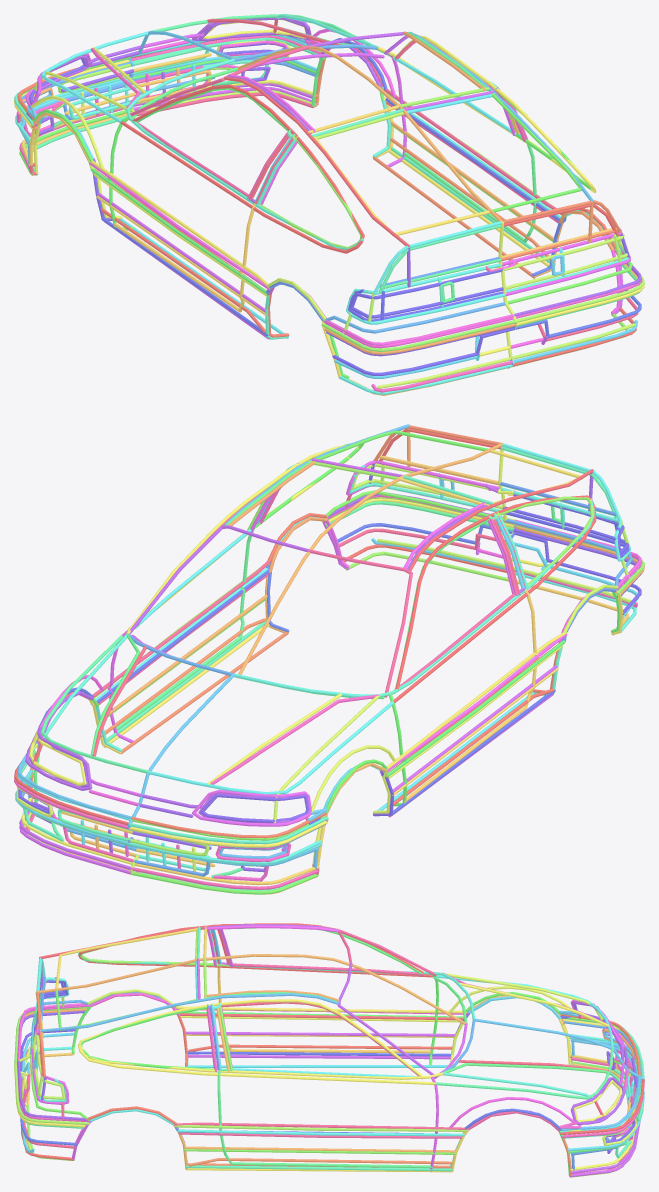
The model's file is robbins_car2.gltf.
3 renders of one model, top to bottom at view 1: azimuth 30°, elevation 25°; view 2: azimuth 150°, elevation 25°; view 3: azimuth 270°, elevation 25°, orthographic. The views are drawn at different scales.
Bounding box in the file's own units: 0.3984 × 0.2635 × 0.8851.
